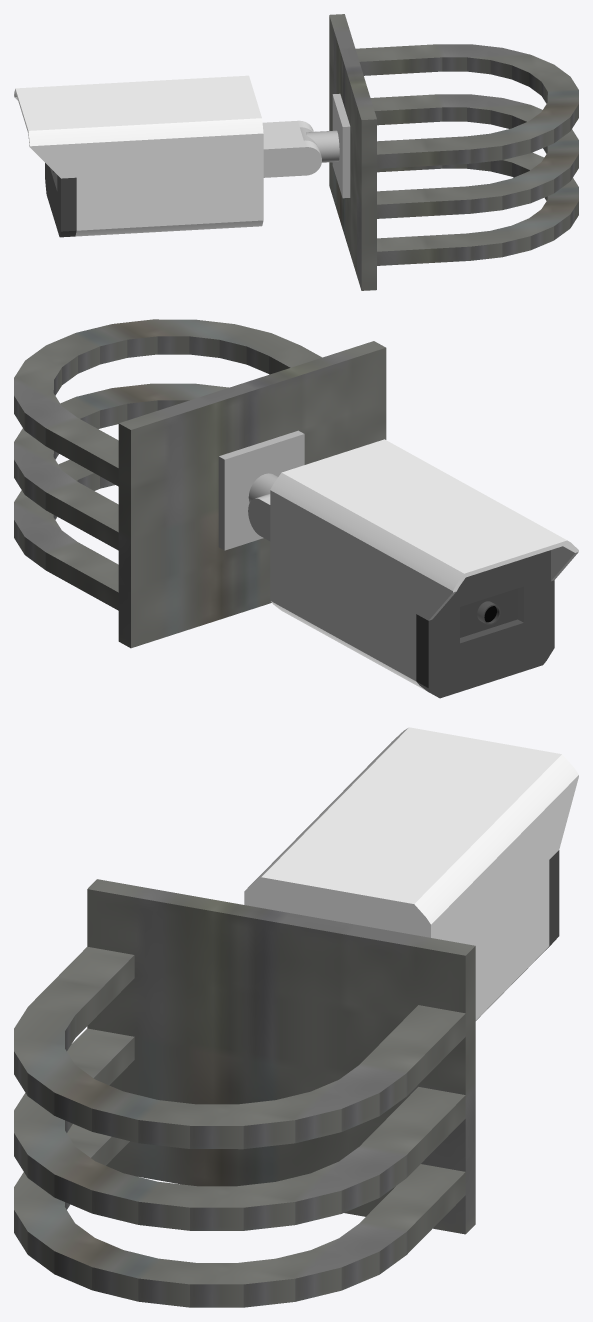
The model's file is camera-ip.fbx.
3 renders of one model, top to bottom at view 1: azimuth 30°, elevation 25°; view 2: azimuth 150°, elevation 25°; view 3: azimuth 270°, elevation 25°, orthographic. The views are drawn at different scales.
Visible parts, largest first — view 1: Componente_13_1, Al_a1, Al_a3, Componente_1_1, Al_a2, Componente_12_1, Componente_11_1, Componente_9_1; view 2: Componente_1_1, Componente_13_1, Al_a1, Componente_9_1, Al_a3, Al_a2, Componente_11_1, Componente_12_1; view 3: Componente_1_1, Componente_13_1, Al_a1, Al_a3, Al_a2, Componente_9_1.
Part boxes in pixels (left/top/right/bottom): Componente_13_1: left=14, top=75, right=263, bottom=236; Al_a1: left=355, top=44, right=578, bottom=168; Al_a3: left=370, top=94, right=578, bottom=218; Componente_1_1: left=329, top=14, right=376, bottom=290; Al_a2: left=377, top=152, right=578, bottom=265; Componente_12_1: left=262, top=120, right=321, bottom=177; Componente_11_1: left=300, top=93, right=350, bottom=198; Componente_9_1: left=45, top=163, right=76, bottom=237; Componente_1_1: left=118, top=341, right=386, bottom=648; Componente_13_1: left=270, top=439, right=578, bottom=690; Al_a1: left=14, top=319, right=321, bottom=486; Componente_9_1: left=416, top=550, right=554, bottom=698; Al_a3: left=14, top=383, right=228, bottom=550; Al_a2: left=14, top=459, right=118, bottom=610; Componente_11_1: left=218, top=430, right=304, bottom=550; Componente_12_1: left=248, top=494, right=270, bottom=541; Componente_1_1: left=87, top=879, right=475, bottom=1234; Componente_13_1: left=244, top=727, right=578, bottom=1020; Al_a1: left=14, top=946, right=465, bottom=1149; Al_a3: left=14, top=1028, right=465, bottom=1230; Al_a2: left=14, top=1124, right=465, bottom=1307; Componente_9_1: left=545, top=850, right=559, bottom=950.
Bounding box in the file's own units: 352 × 120 × 220.
